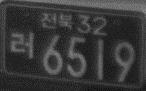1: (95, 36, 108, 81)
2: (93, 15, 109, 36)
3: (77, 14, 91, 35)
5: (67, 35, 87, 78)
6: (43, 34, 65, 76)
9: (113, 40, 136, 84)
러: (10, 30, 35, 62)
전북_O: (40, 10, 73, 31)
